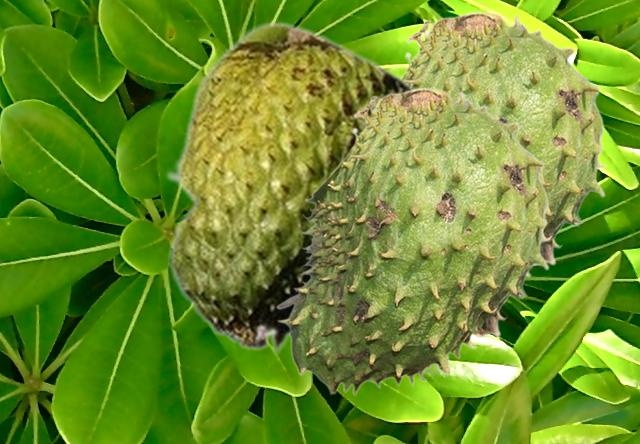guyabano: (275, 87, 550, 395), (164, 20, 415, 355), (402, 11, 606, 303)
